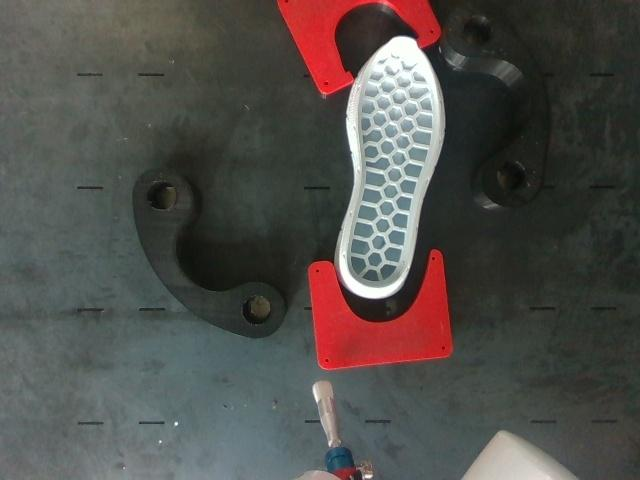shoes: (346, 37, 440, 288)
